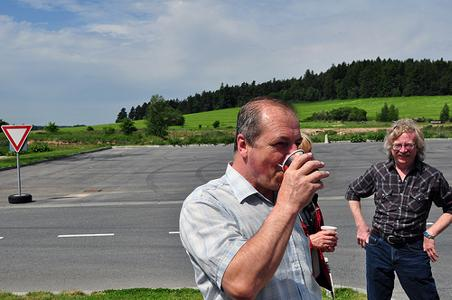person: (178, 97, 332, 300)
